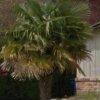Palm tree: (11, 2, 79, 99)
